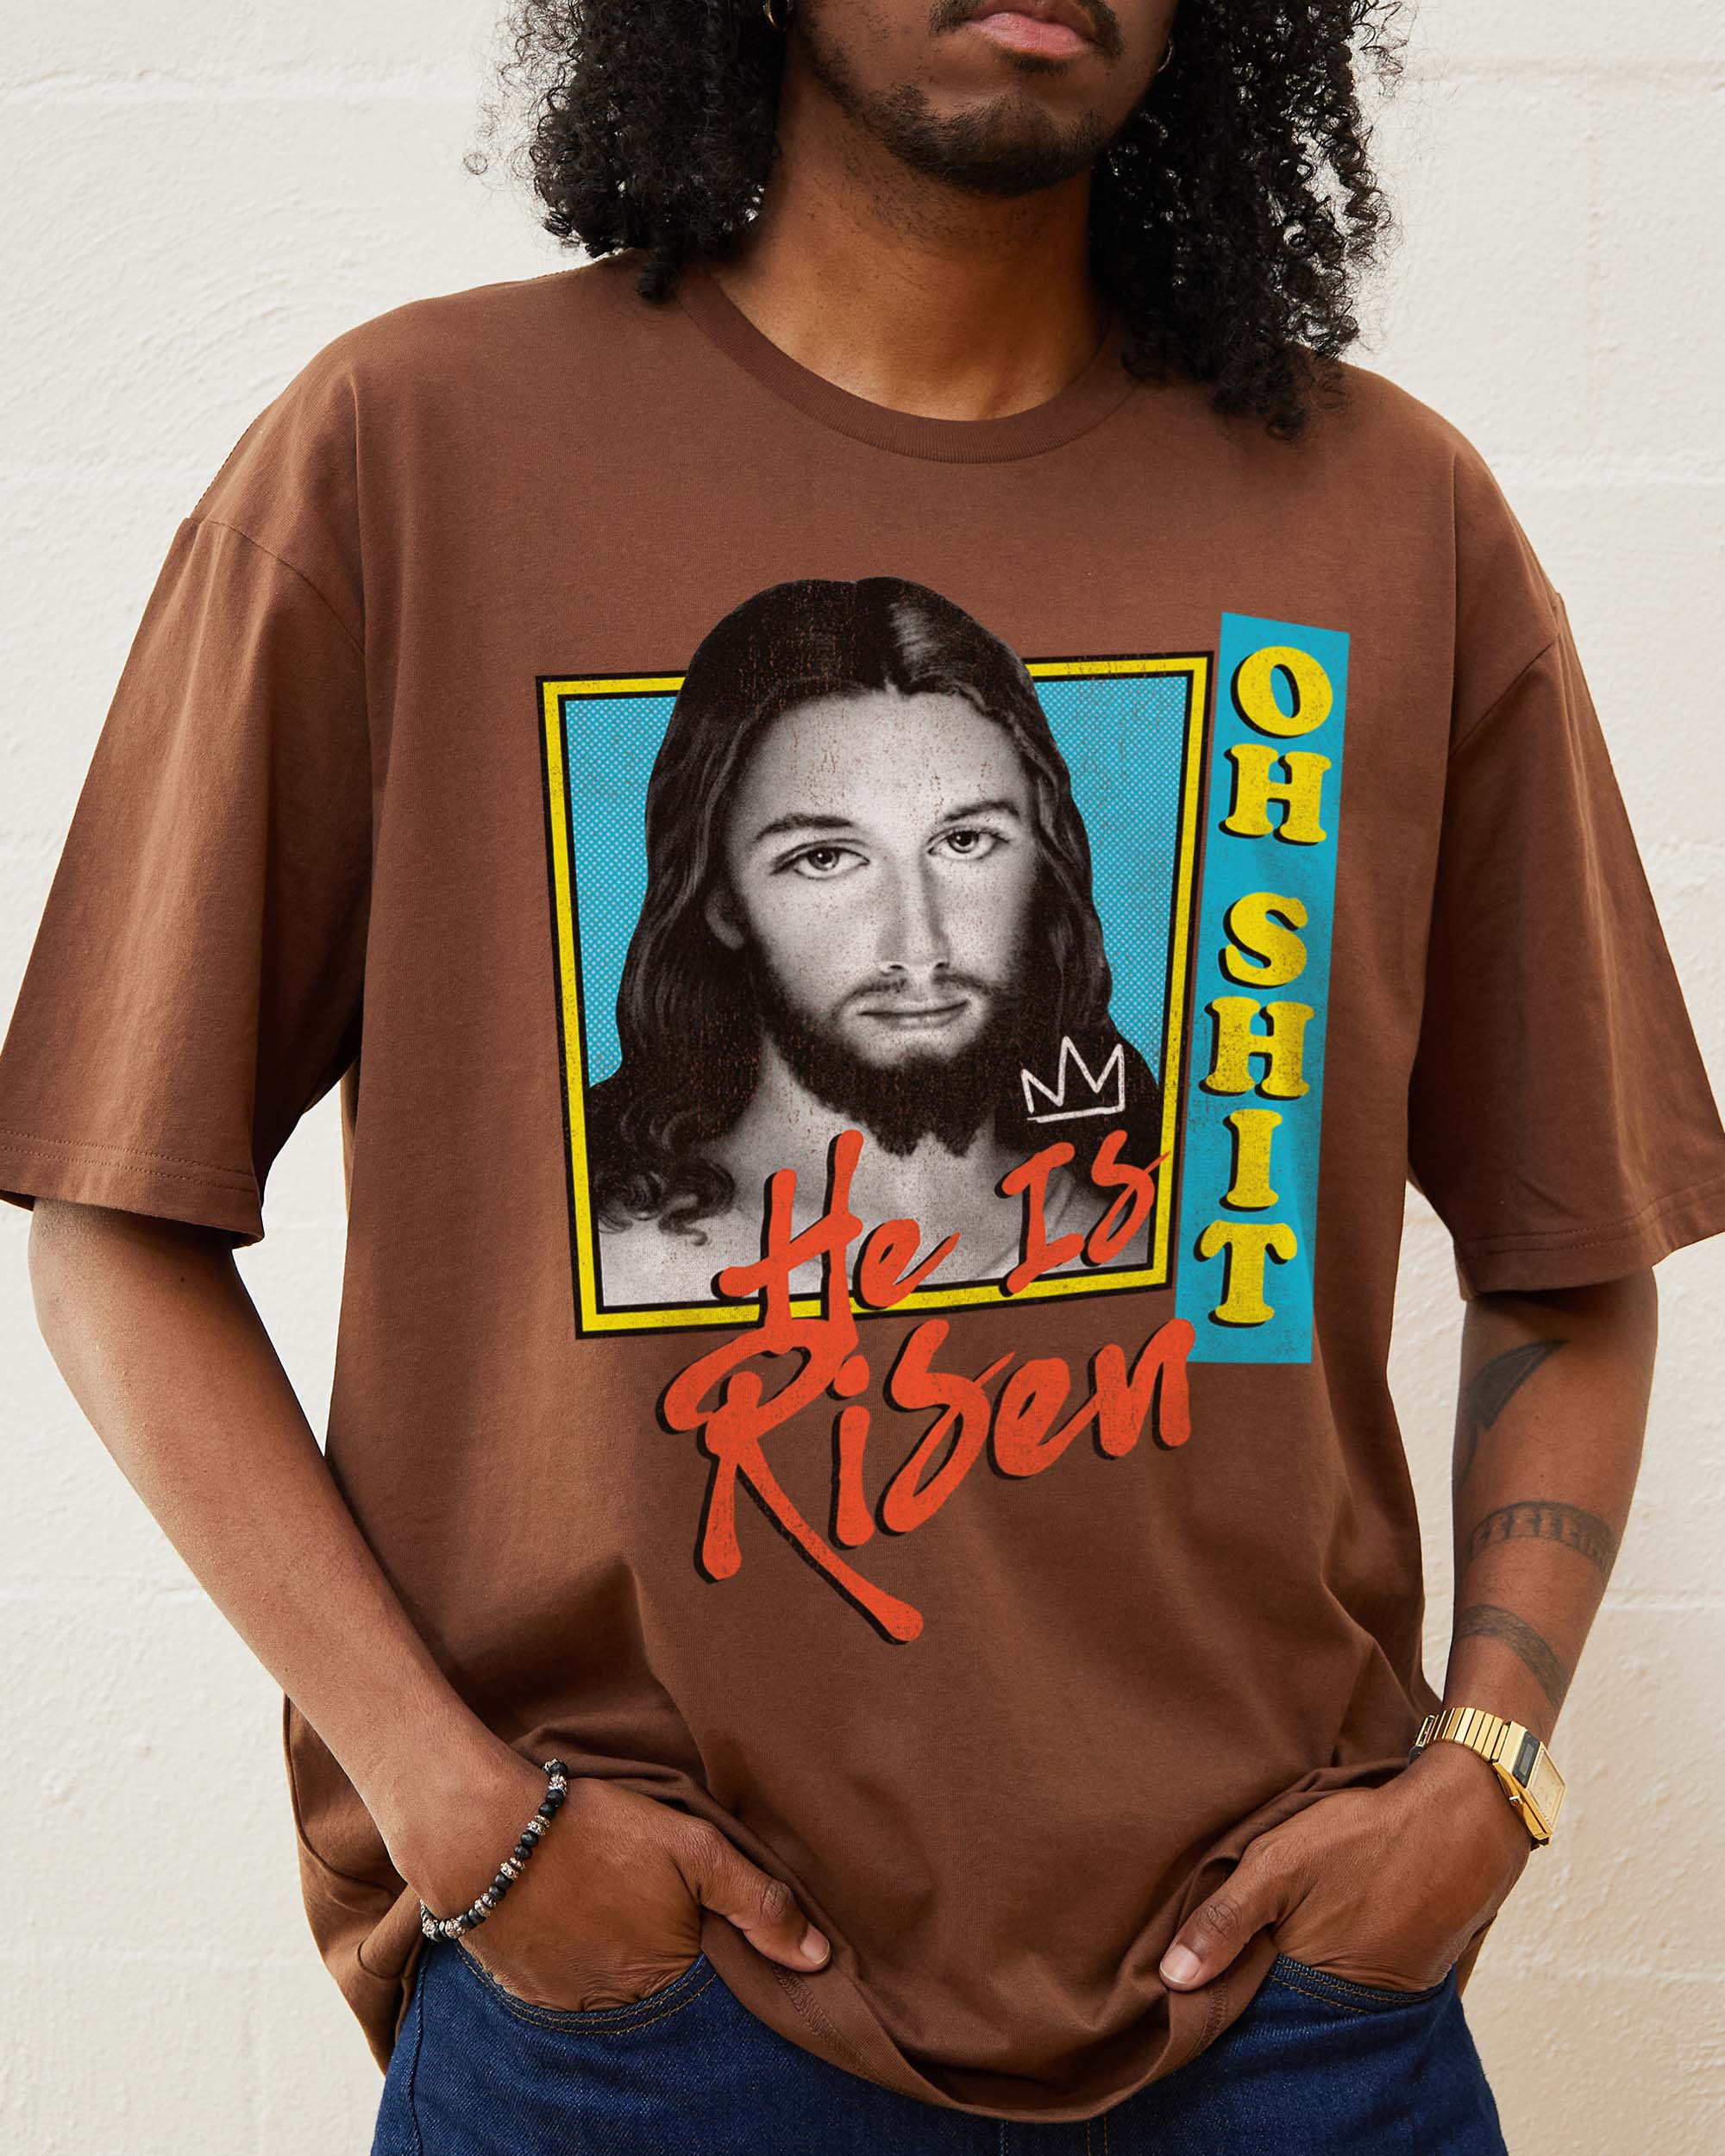design: (526, 567, 1366, 1658)
